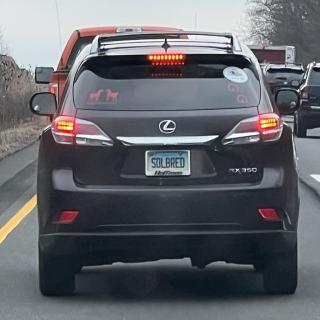license: (146, 151, 192, 177)
